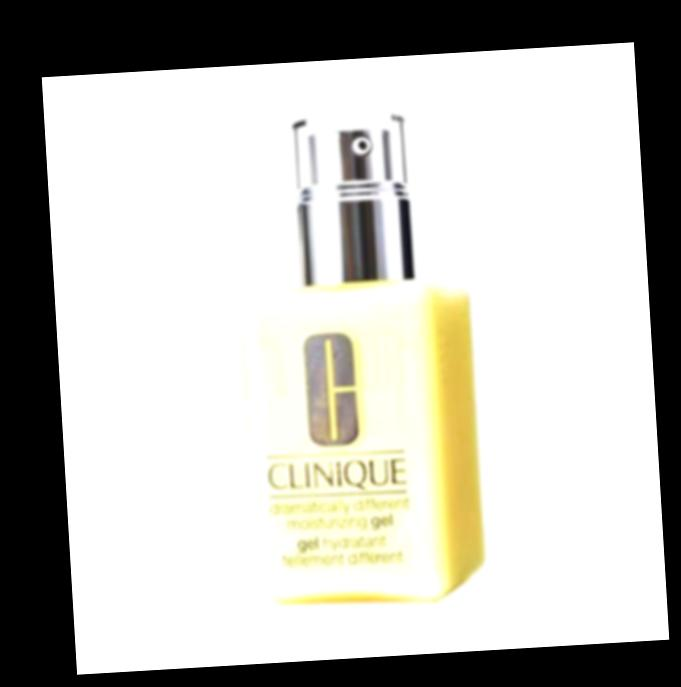cosmetic: (226, 103, 488, 608)
